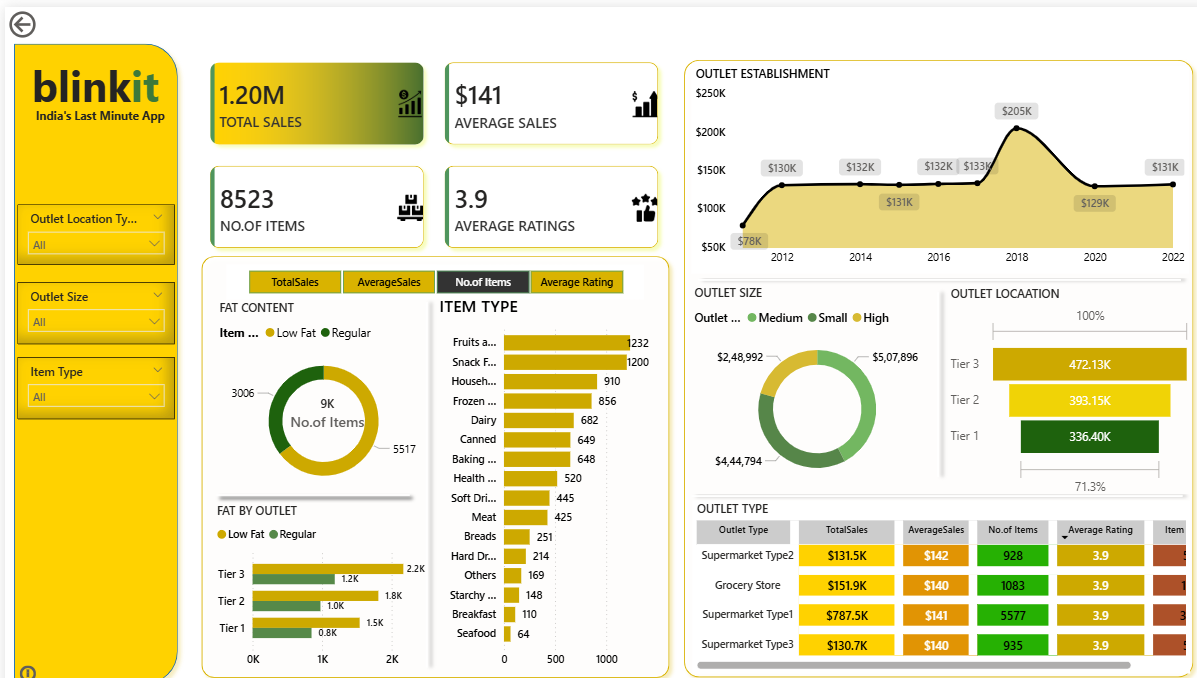

This screenshot's page, from the dashboard's own definition file:
{"tool":"powerbi","page":{"name":"Page 1","canvas":[1400,800],"ordinal":0},"visuals":[{"type":"shape","box":[1.7,33.3,205,750],"z":0},{"type":"textbox","box":[14.3,51.4,178.6,75.7],"z":1000},{"type":"textbox","box":[30,110,175.7,32.9],"z":2000},{"type":"cardVisual","fields":{"Data":["BlinkIT Grocery Data.TotalSales","BlinkIT Grocery Data.AverageSales","BlinkIT Grocery Data.No.of Items","BlinkIT Grocery Data.Average Rating"]},"box":[206.2,33.8,570,270],"z":3000},{"type":"shape","box":[215,275,552.5,500],"z":4000},{"type":"slicer","fields":{"Values":["Metrics.Metrics"]},"box":[252.5,293.8,477.5,40],"z":5000},{"type":"donutChart","title":"FAT CONTENT","fields":{"Y":["BlinkIT Grocery Data.No.of Items"],"Category":["BlinkIT Grocery Data.Item Fat Content"]},"box":[240,333.8,248.8,230],"z":6000},{"type":"cardVisual","fields":{"Data":["BlinkIT Grocery Data.No.of Items"]},"box":[293.8,426.2,148.8,76.2],"z":7000},{"type":"clusteredBarChart","title":"FAT BY OUTLET","fields":{"Y":["BlinkIT Grocery Data.No.of Items"],"Category":["BlinkIT Grocery Data.Outlet Location Type"],"Series":["BlinkIT Grocery Data.Item Fat Content"]},"box":[236.7,565,255,198.3],"z":8000},{"type":"shape","box":[233.3,548.3,238.3,18.3],"z":9000},{"type":"shape","box":[460,328.8,43.8,435],"z":10000},{"type":"barChart","title":"ITEM TYPE","fields":{"Y":["BlinkIT Grocery Data.No.of Items"],"Category":["BlinkIT Grocery Data.Item Type"]},"box":[491.2,328.8,262.5,435],"z":11000},{"type":"shape","box":[767.5,51.2,600,723.8],"z":12000},{"type":"lineChart","title":"OUTLET ESTABLISHMENT","fields":{"Y":["BlinkIT Grocery Data.TotalSales"],"Category":["BlinkIT Grocery Data.Outlet Establishment Year"]},"box":[783.8,67.5,568.8,237.5],"z":13000},{"type":"shape","box":[825,95,25,181.2],"z":14000},{"type":"shape","box":[782.5,302.5,570,15],"z":15000},{"type":"donutChart","title":"OUTLET SIZE","fields":{"Y":["BlinkIT Grocery Data.TotalSales"],"Category":["BlinkIT Grocery Data.Outlet Size"]},"box":[782.5,317.5,291.2,237.5],"z":16000},{"type":"shape","box":[1043.8,317.5,43.8,228.8],"z":17000},{"type":"funnel","title":"OUTLET LOCAATION","fields":{"Category":["BlinkIT Grocery Data.Outlet Location Type"],"Y":["Sum(BlinkIT Grocery Data.Sales)"]},"box":[1075,318.3,285,245],"z":18000},{"type":"shape","box":[776.2,550,578.8,13.8],"z":19000},{"type":"pivotTable","title":"OUTLET TYPE","fields":{"Rows":["BlinkIT Grocery Data.Outlet Type"],"Values":["BlinkIT Grocery Data.TotalSales","BlinkIT Grocery Data.AverageSales","BlinkIT Grocery Data.No.of Items","BlinkIT Grocery Data.Average Rating","Sum(BlinkIT Grocery Data.Item Visibility)"]},"box":[786.2,563.8,568.8,197.5],"z":20000},{"type":"actionButton","box":[0,0,100,40],"z":21000},{"type":"slicer","fields":{"Values":["BlinkIT Grocery Data.Outlet Location Type"]},"box":[13.8,225,180,68.8],"z":22000},{"type":"slicer","fields":{"Values":["BlinkIT Grocery Data.Outlet Size"]},"box":[13.8,313.8,180,71.2],"z":23000},{"type":"slicer","fields":{"Values":["BlinkIT Grocery Data.Item Type"]},"box":[13.8,400,180,71.2],"z":24000},{"type":"actionButton","box":[13.3,748.3,26.7,26.7],"z":25000},{"type":"bookmarkNavigator","box":[0,0,600,50],"z":26000}]}

Visuals, with their boxes on the page's 1400x800 design canvas (x1, y1, x2, y2). These are canvas units, not pixel positions in the 1197x678 screenshot, which may show the page scaled, cropped or inside an application window:
shape: 2, 33, 207, 783
textbox: 14, 51, 193, 127
textbox: 30, 110, 206, 143
cardVisual - BlinkIT Grocery Data.TotalSales x BlinkIT Grocery Data.AverageSales: 206, 34, 776, 304
shape: 215, 275, 768, 775
slicer - Metrics.Metrics: 252, 294, 730, 334
"FAT CONTENT" donutChart: 240, 334, 489, 564
cardVisual - BlinkIT Grocery Data.No.of Items: 294, 426, 443, 502
"FAT BY OUTLET" clusteredBarChart: 237, 565, 492, 763
shape: 233, 548, 472, 567
shape: 460, 329, 504, 764
"ITEM TYPE" barChart: 491, 329, 754, 764
shape: 768, 51, 1368, 775
"OUTLET ESTABLISHMENT" lineChart: 784, 68, 1353, 305
shape: 825, 95, 850, 276
shape: 782, 302, 1352, 318
"OUTLET SIZE" donutChart: 782, 318, 1074, 555
shape: 1044, 318, 1088, 546
"OUTLET LOCAATION" funnel: 1075, 318, 1360, 563
shape: 776, 550, 1355, 564
"OUTLET TYPE" pivotTable: 786, 564, 1355, 761
actionButton: 0, 0, 100, 40
slicer - BlinkIT Grocery Data.Outlet Location Type: 14, 225, 194, 294
slicer - BlinkIT Grocery Data.Outlet Size: 14, 314, 194, 385
slicer - BlinkIT Grocery Data.Item Type: 14, 400, 194, 471
actionButton: 13, 748, 40, 775
bookmarkNavigator: 0, 0, 600, 50
